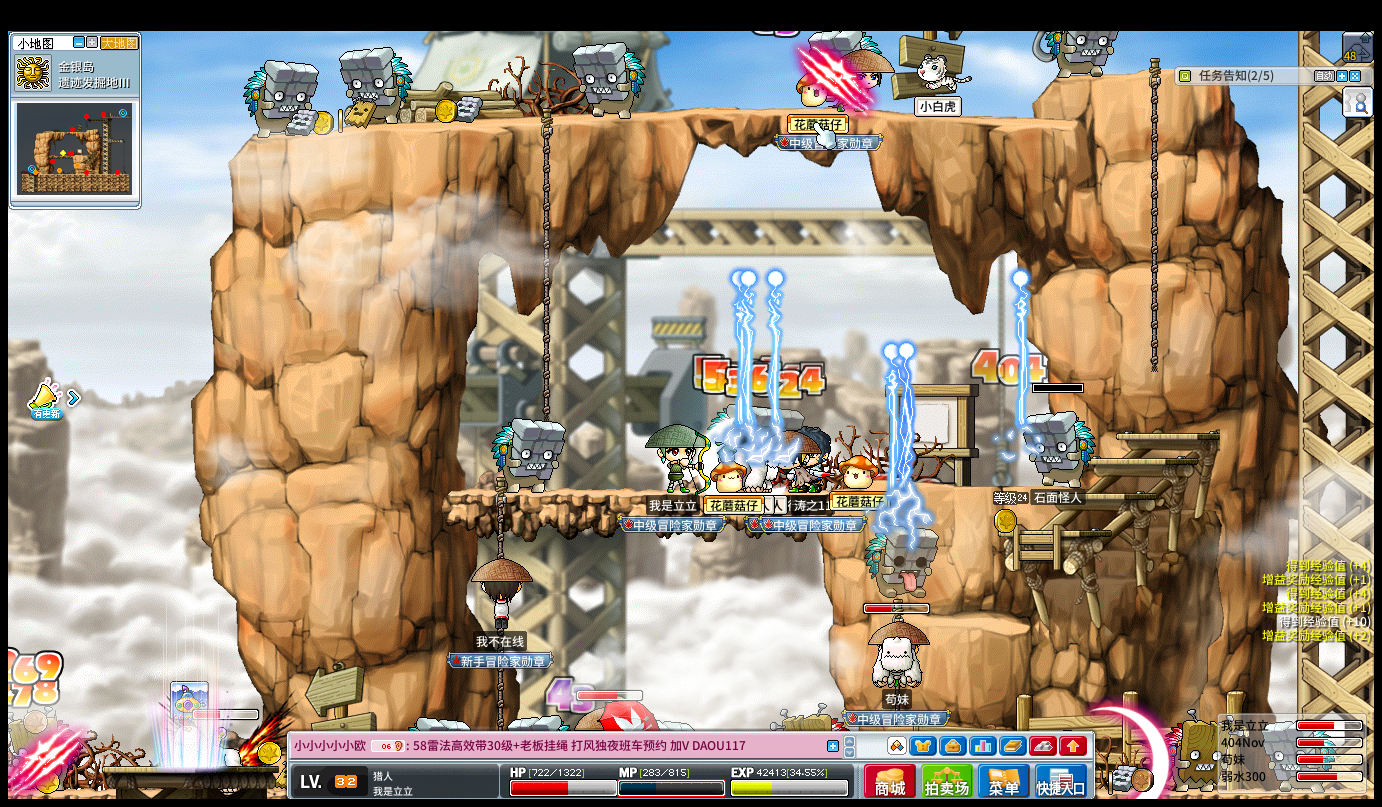floor: (251, 106, 1075, 137), (447, 487, 828, 501), (906, 613, 1028, 634), (1051, 63, 1174, 83), (934, 481, 1099, 491), (1115, 429, 1221, 440), (992, 528, 1110, 537), (1092, 456, 1193, 464), (1053, 492, 1157, 499)
monster: (1165, 710, 1246, 790), (243, 58, 319, 138), (337, 47, 413, 126), (863, 522, 938, 600), (491, 417, 566, 493), (5, 709, 73, 789), (573, 42, 644, 117), (1023, 410, 1094, 483), (1053, 27, 1116, 80), (1262, 719, 1300, 790)
rope: (1146, 56, 1161, 372), (540, 109, 553, 427), (492, 483, 506, 560), (493, 671, 502, 725)
